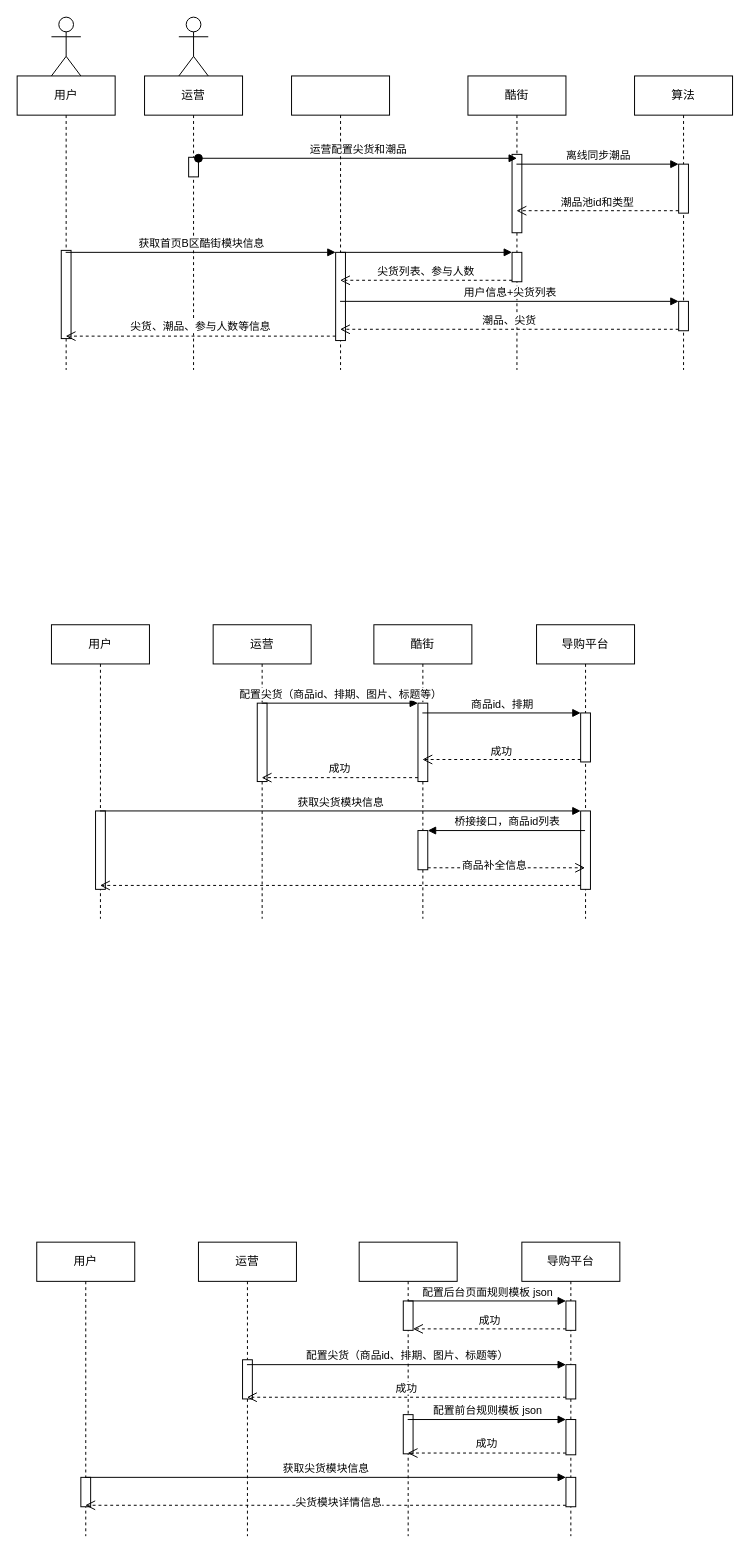
Image size: 750x1553. Some labels were removed from this diagram. The shapes that lost their labels are listed below. From the top down, each one's centre as x and y in pixels, then its label:
At point (340, 222): "APP首页".
At point (407, 1388): "技术".
